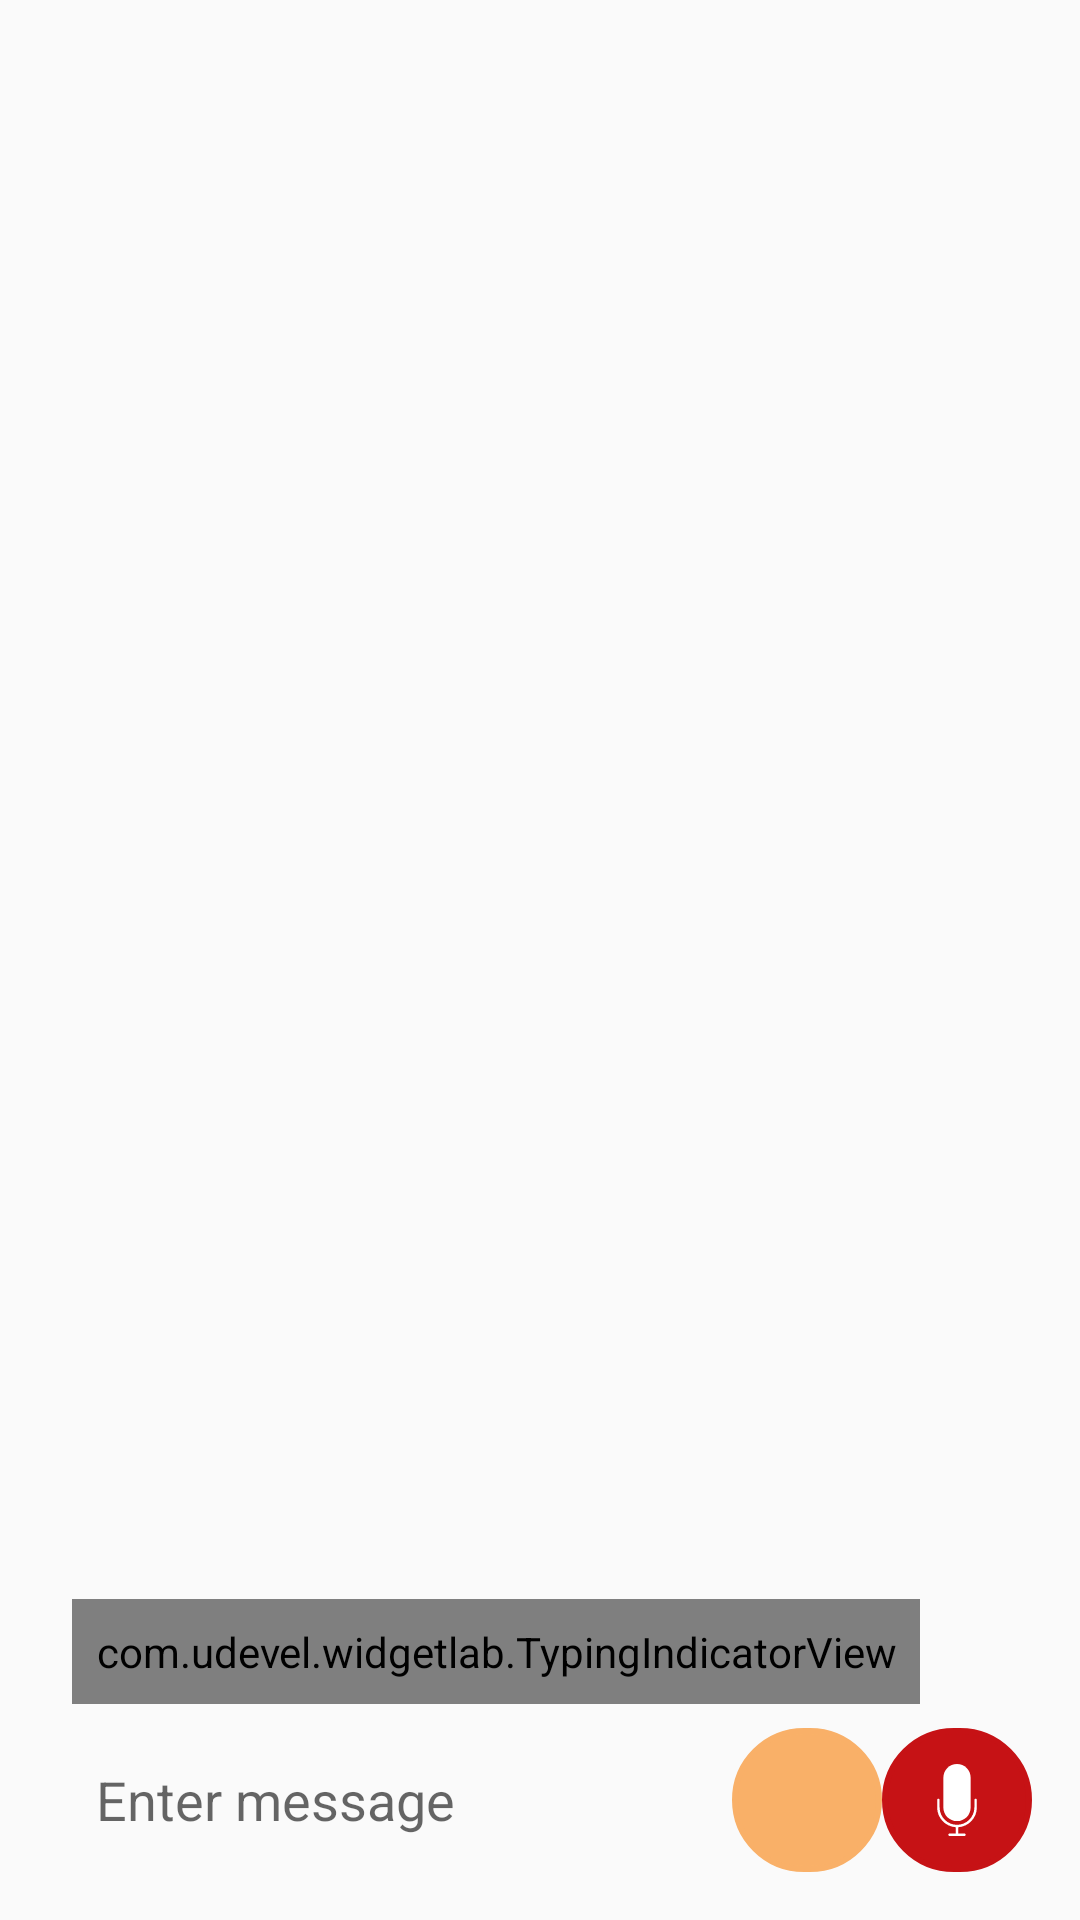

Where icons sit on this 1080px x 1920px app screen, as (x1, y1, x2, y2):
microphonewhite: (882, 1728, 1032, 1872)
